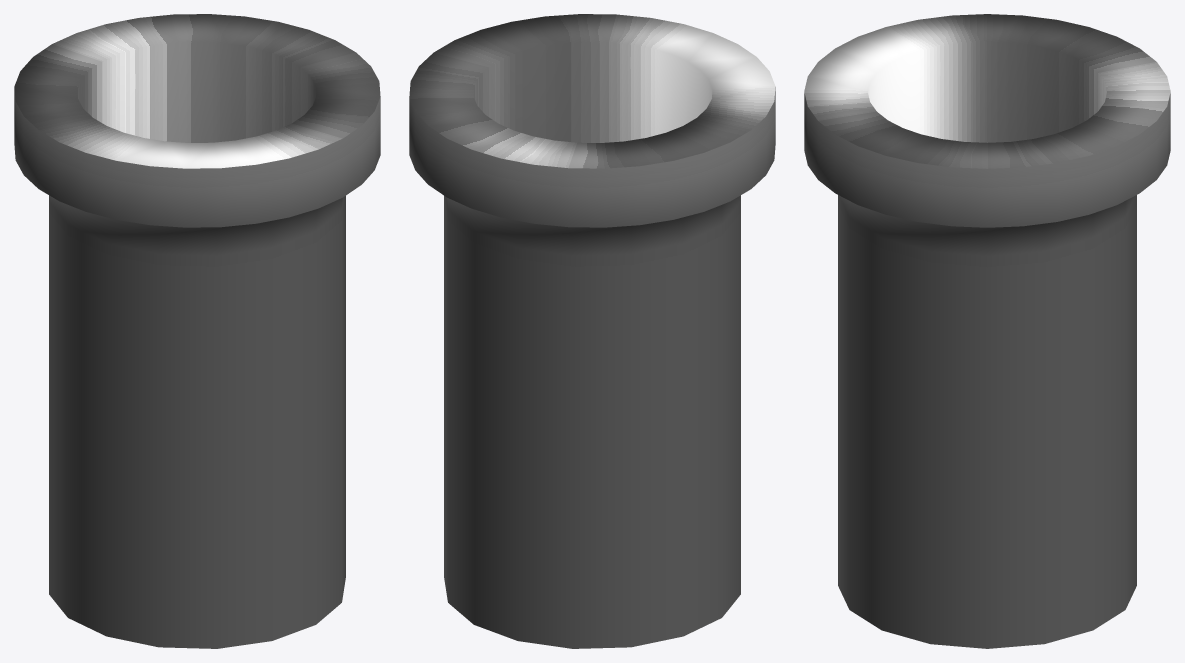
File: pipe.glb
The picture shows the model from 3 angles, left to right: view 1: azimuth 30°, elevation 25°; view 2: azimuth 150°, elevation 25°; view 3: azimuth 270°, elevation 25°; orthographic projection.
Parts seen in each view (by area): view 1: m0; view 2: m0; view 3: m0.
Part boxes in pixels (<box>): m0: <box>14,14,380,648</box>; m0: <box>409,14,775,648</box>; m0: <box>804,14,1170,648</box>.
Bounding box in the file's own units: 2.31 × 3.44 × 2.31.
Materials: 1 (1 with a texture image).
